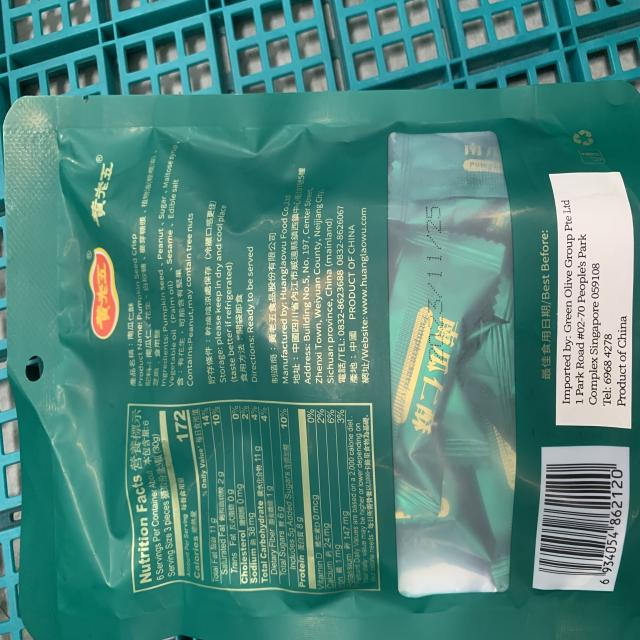object_name: (6, 97, 640, 640)
